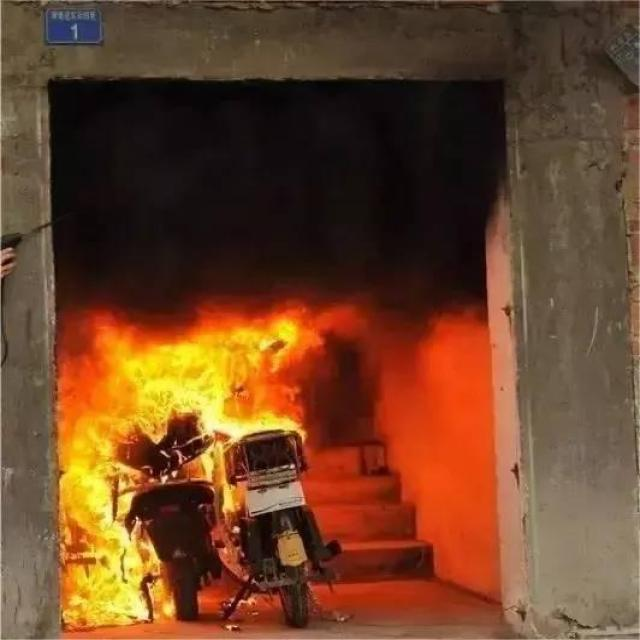Fire: (80, 310, 300, 430), (61, 428, 150, 629)
